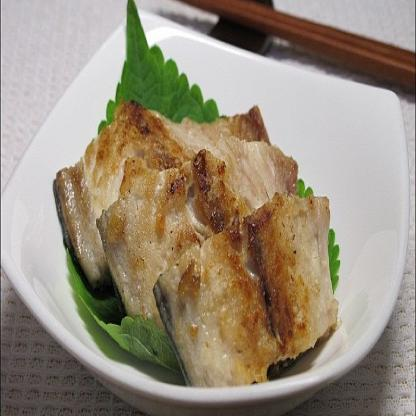Peixe: (56, 65, 326, 384)
